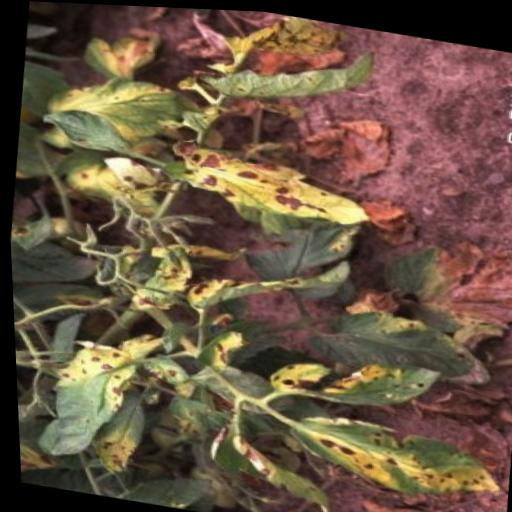Early Blight: (25, 303, 180, 469), (275, 403, 503, 505), (178, 232, 354, 331), (300, 294, 491, 383), (167, 143, 373, 225), (265, 335, 431, 414), (197, 416, 333, 511), (42, 67, 198, 148)
